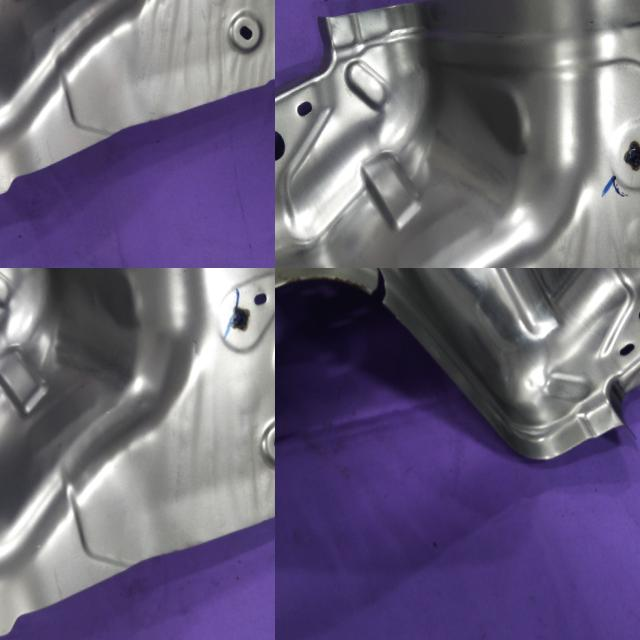Defect: (359, 268, 407, 338)
Healthy: (0, 268, 275, 640), (275, 0, 640, 268), (0, 0, 275, 232)
